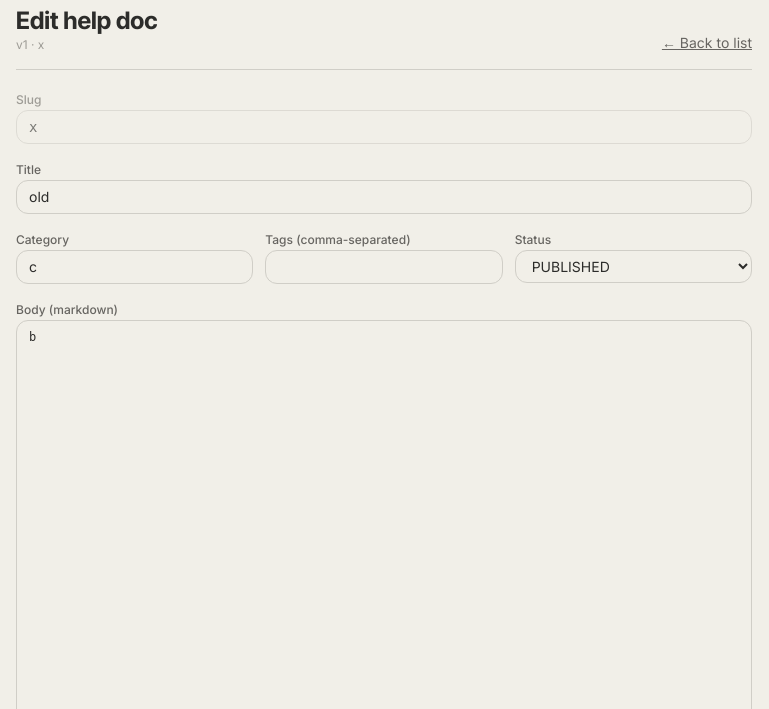
AdminHelpDocEditPage — edit › shows conflict banner on 409 and reload restores server state
Replace the text in the field with test id "field-title" with "mine" at point(384, 197), box [16,180,752,214]
(page scrolled)
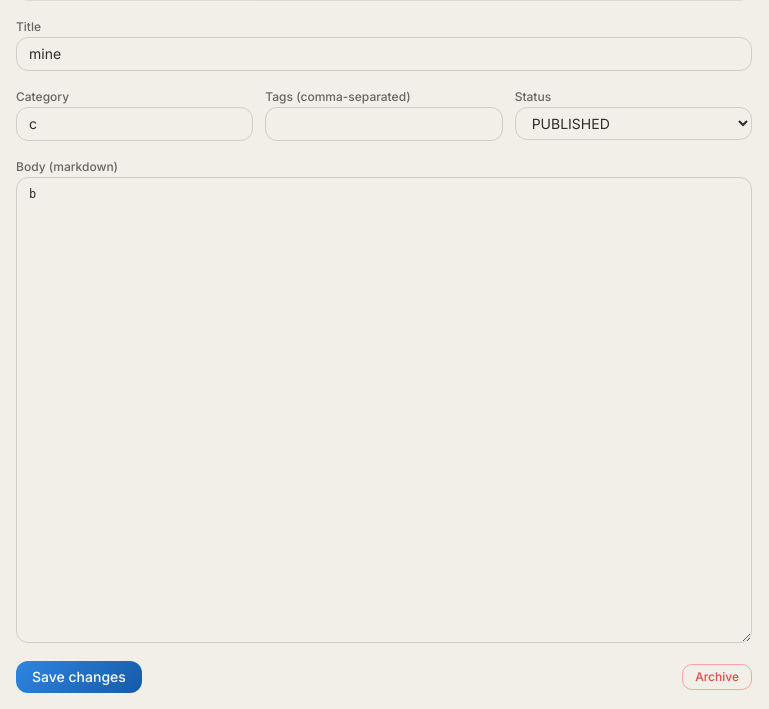
Click the button with test id "save-button" at point(79, 677), box [16,661,142,693]
(page scrolled)
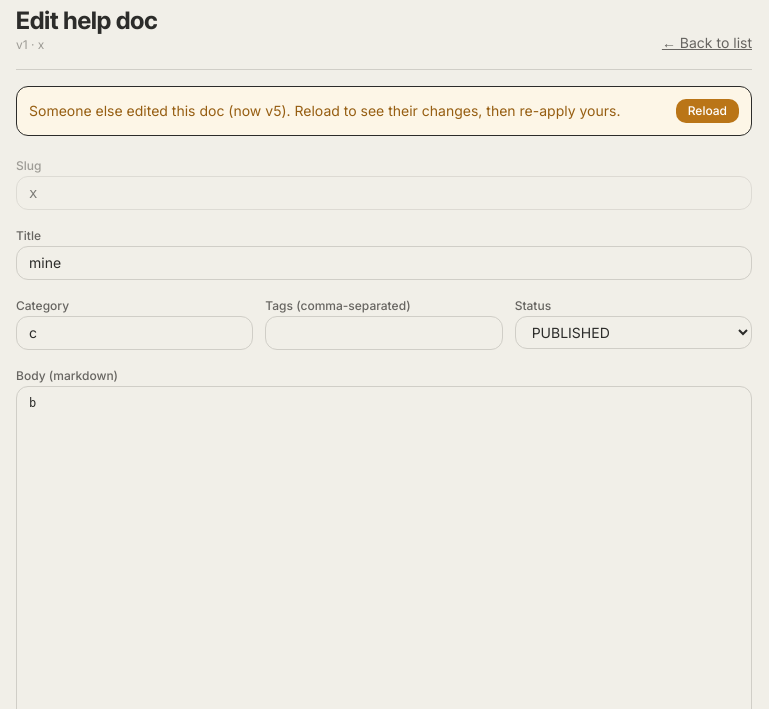
expect the element with test id "conflict-banner" is shown: met, box [16,86,752,136]
Click the button with test id "conflict-reload" at point(707, 111), box [676,99,739,123]
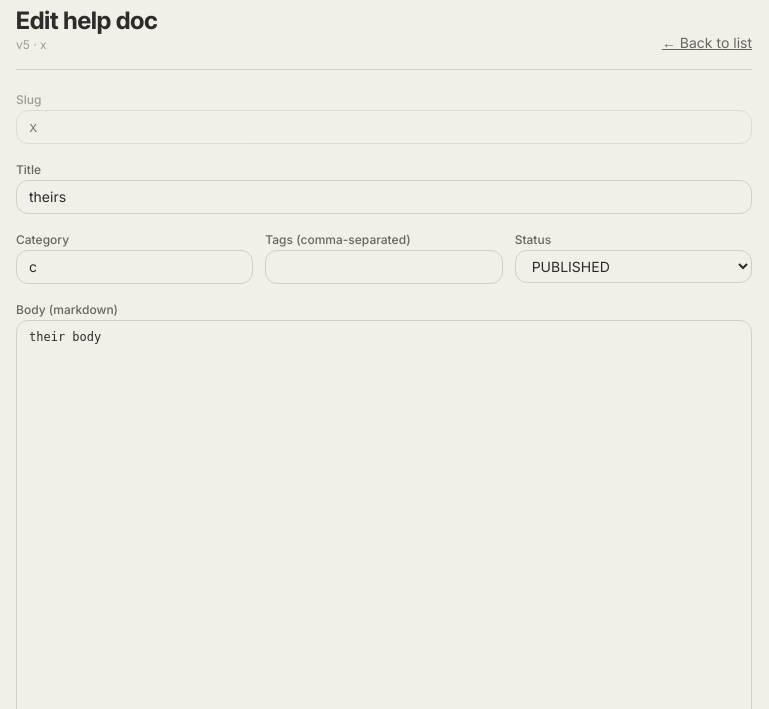
expect the field with test id "field-title" holds "theirs": met, box [16,180,752,214]
